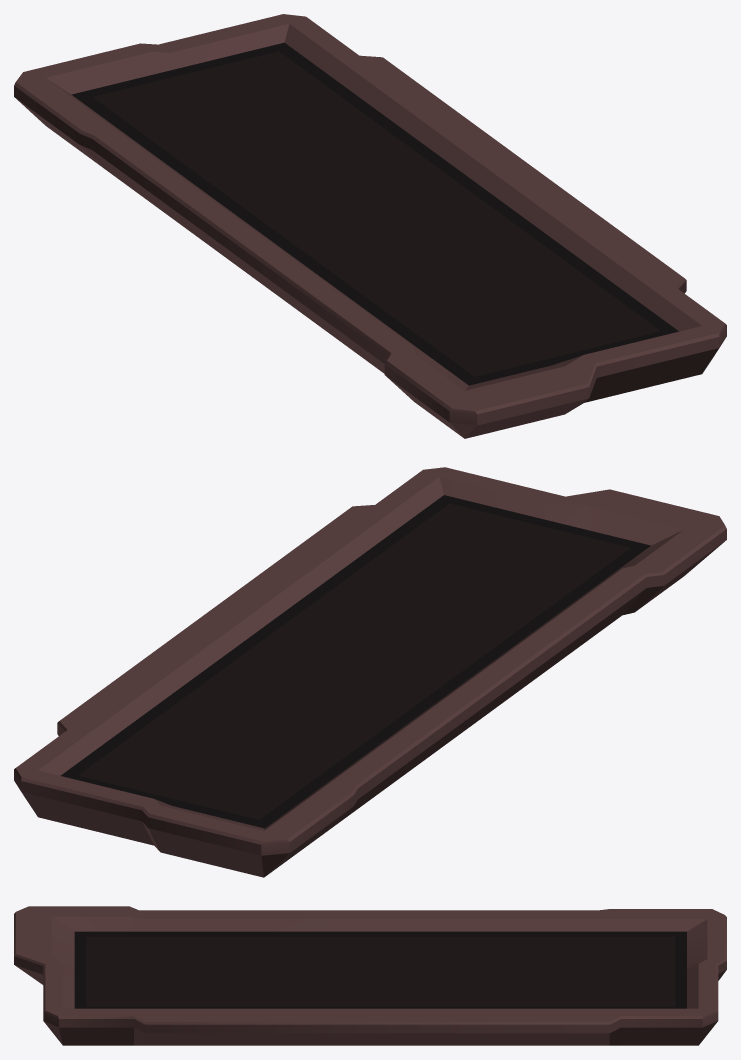
File: Module_Ss_asset_Scree_2.FBX
3 views of the same model, one above another, from view 1: azimuth 30°, elevation 25°; view 2: azimuth 150°, elevation 25°; view 3: azimuth 270°, elevation 25° (orthographic). The views are drawn at different scales.
Visible parts, largest first — view 1: Module_Ss_asset_Scree_2; view 2: Module_Ss_asset_Scree_2; view 3: Module_Ss_asset_Scree_2.
Boxes of the visible parts, x1,y1,x2,y2 form: Module_Ss_asset_Scree_2: (14,14,726,438); Module_Ss_asset_Scree_2: (14,467,726,877); Module_Ss_asset_Scree_2: (14,906,726,1045).
Size of the model in its own units: 20.93 by 3.09 by 53.73.
